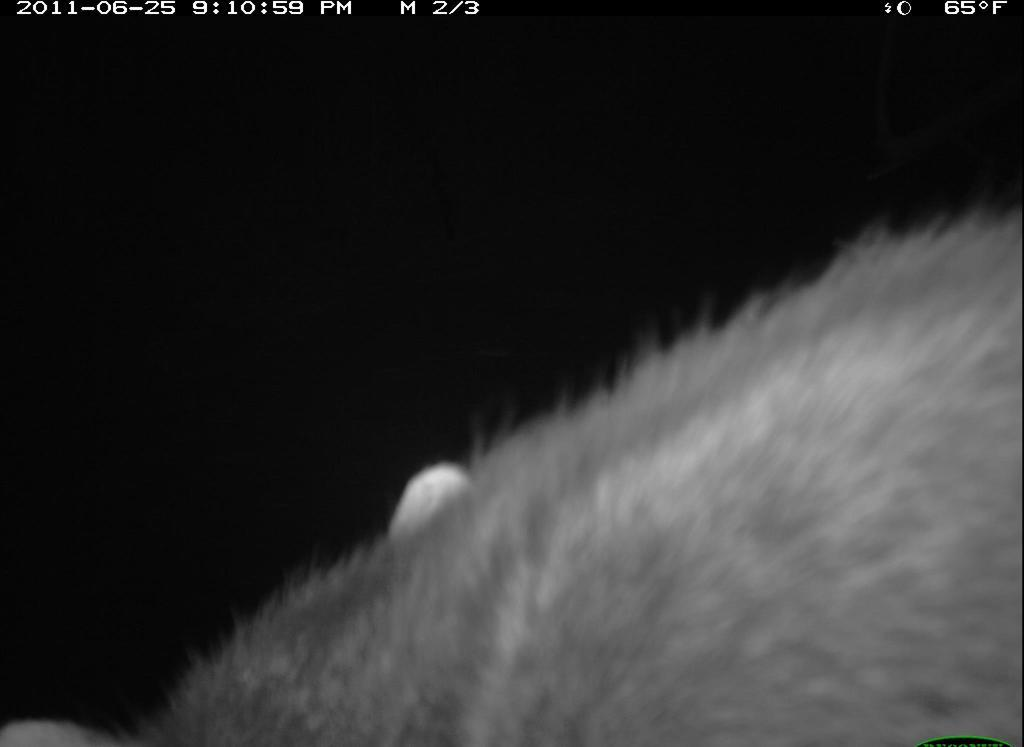raccoon: (4, 222, 1023, 747)
